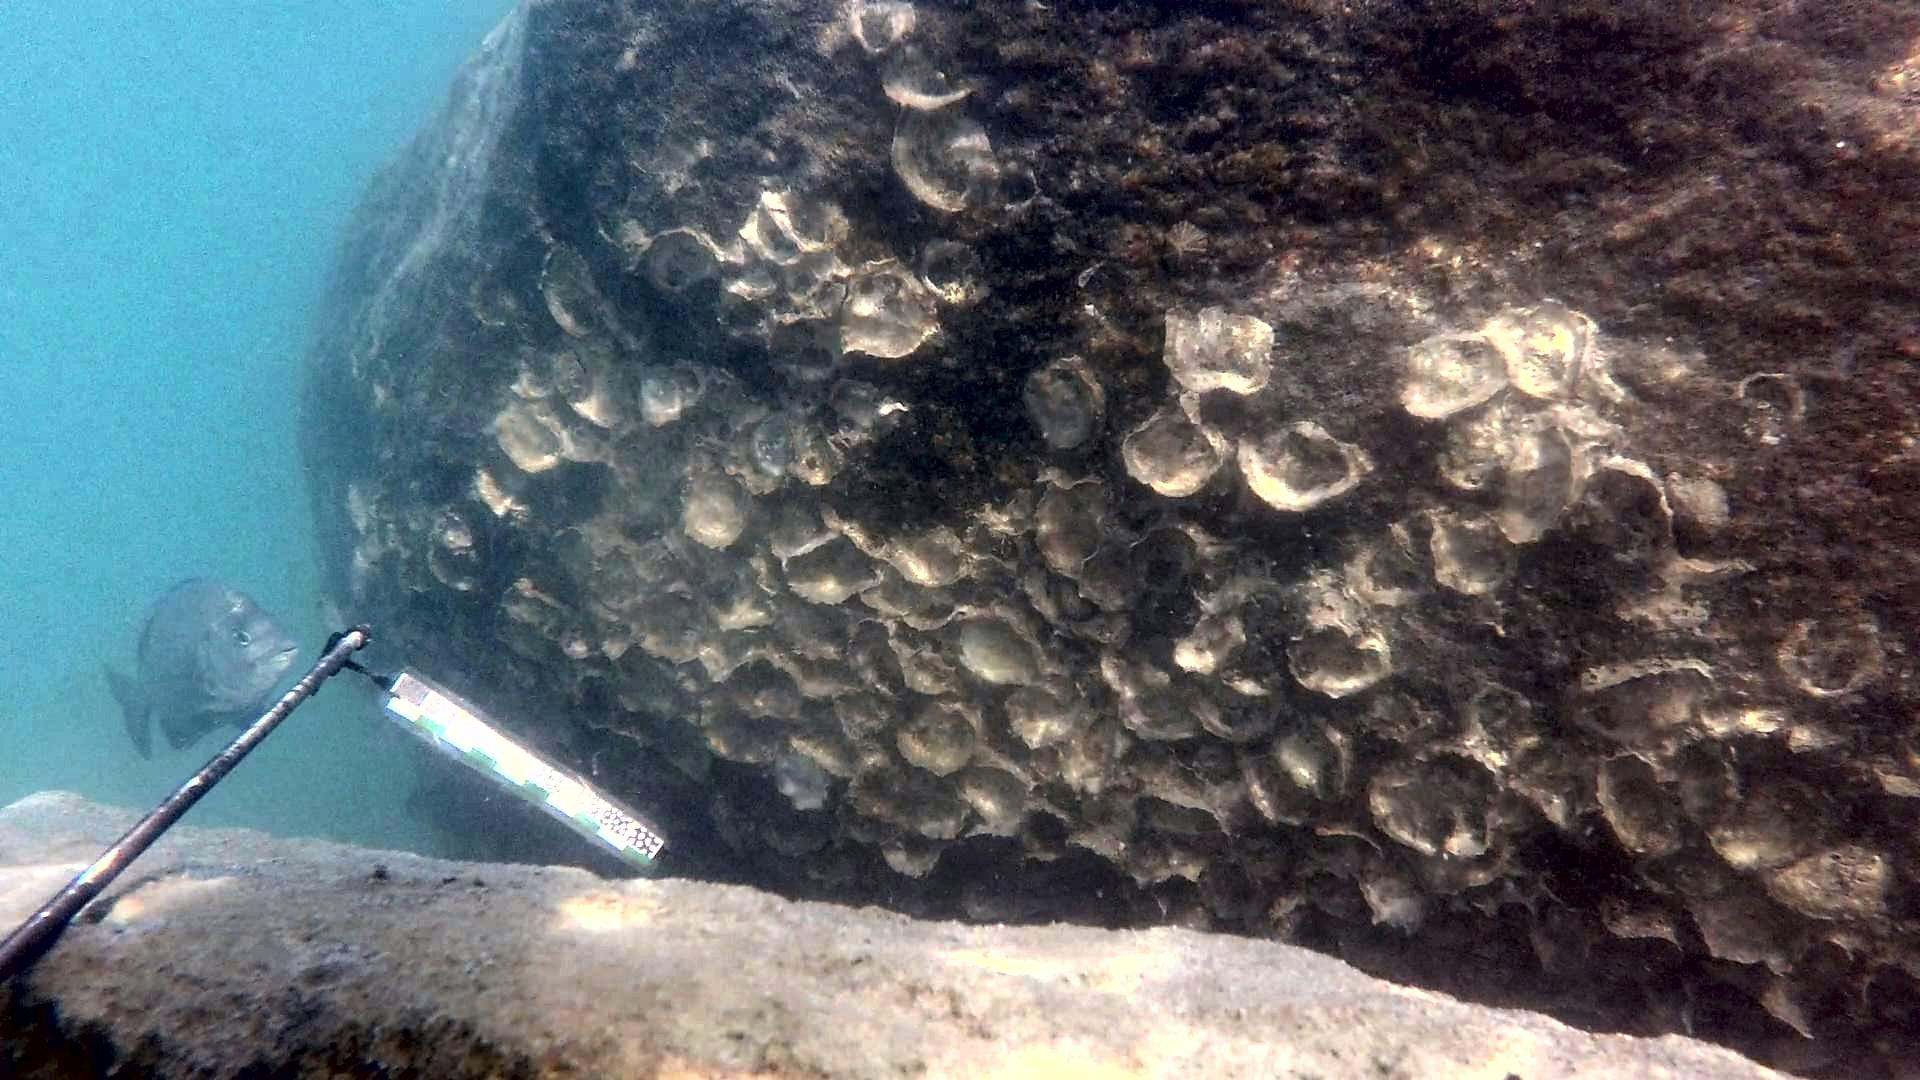acanthopagrus palmaris: (98, 560, 299, 758)
